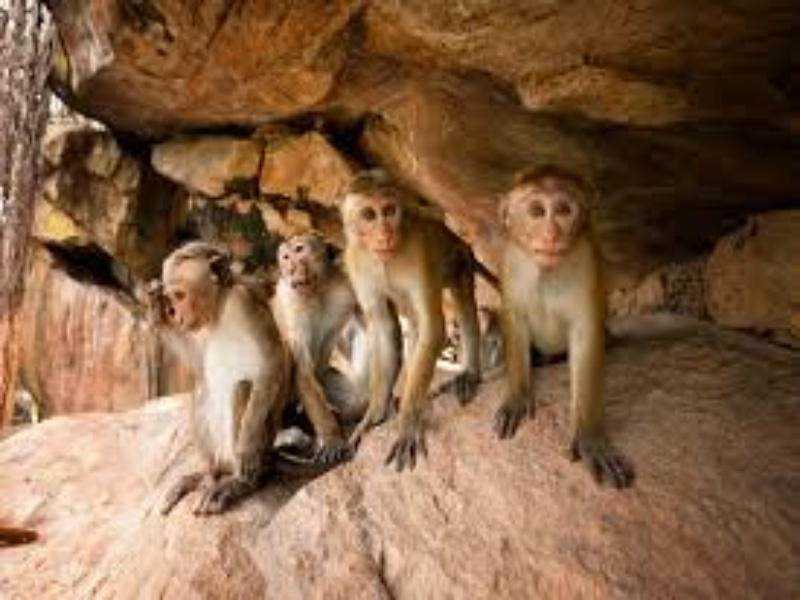monkey: (153, 166, 664, 510)
